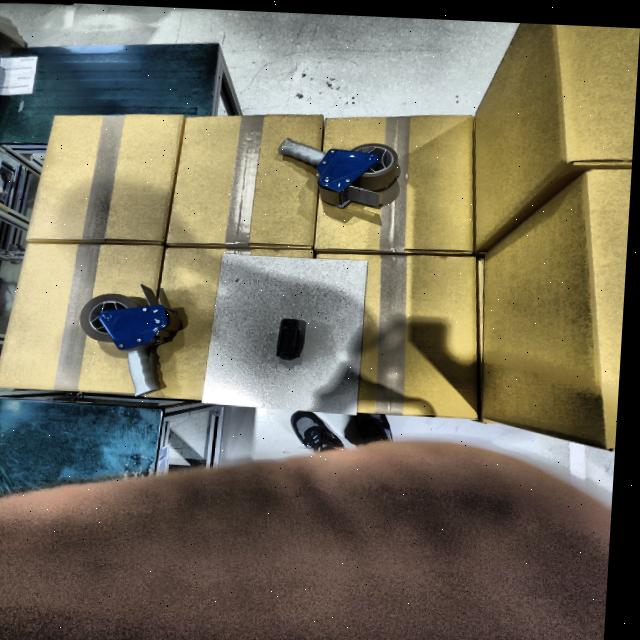P38: (280, 316, 303, 357)
